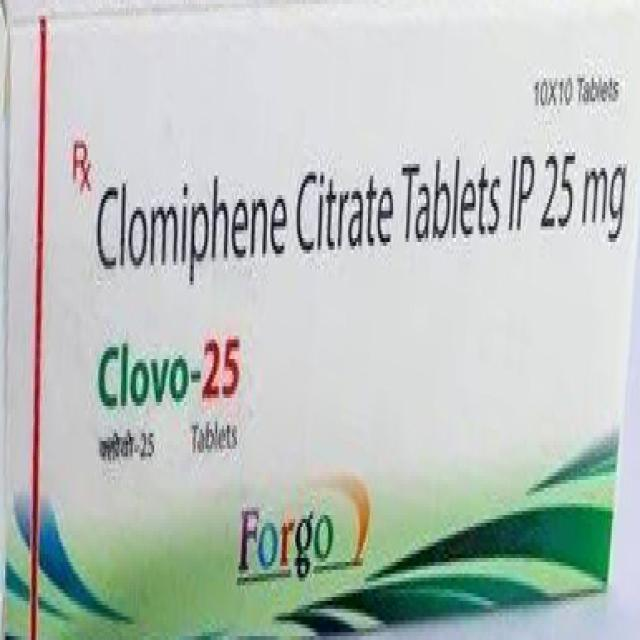drug-name: (100, 326, 240, 406)
